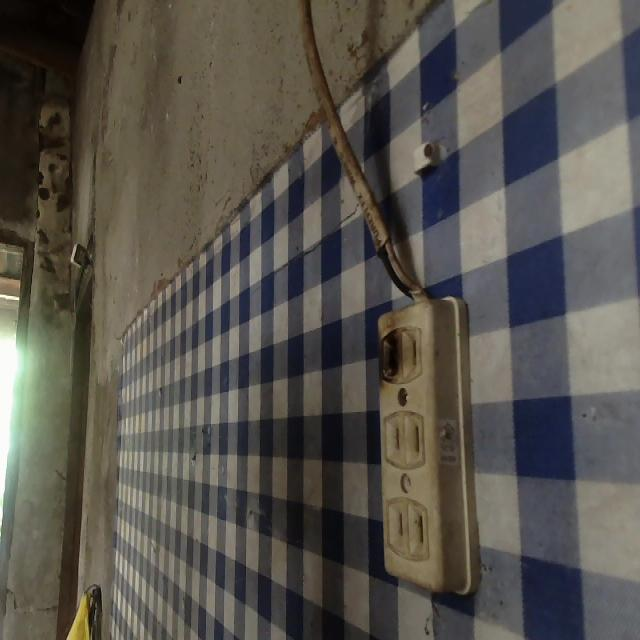-: (371, 326, 411, 386)
